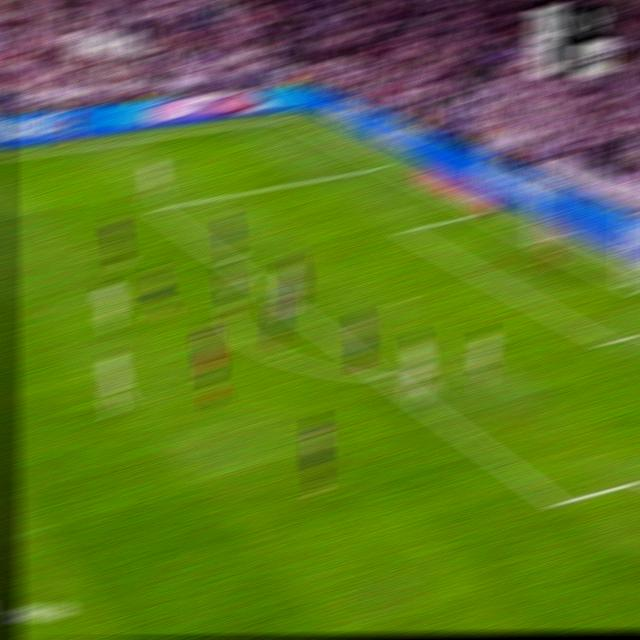bigarea_bottom_inner: (546, 489, 568, 518)
bigarea_top_inner: (148, 203, 164, 215)
bigarea_top_outter: (375, 158, 392, 172)
bottom_arc_area_intersection: (374, 367, 391, 383)
corner: (278, 113, 297, 122)
smallarea_bottom_inner: (596, 331, 617, 354)
smallarea_top_inner: (397, 224, 413, 238)
top_arc_area_intersection: (240, 269, 254, 281)
